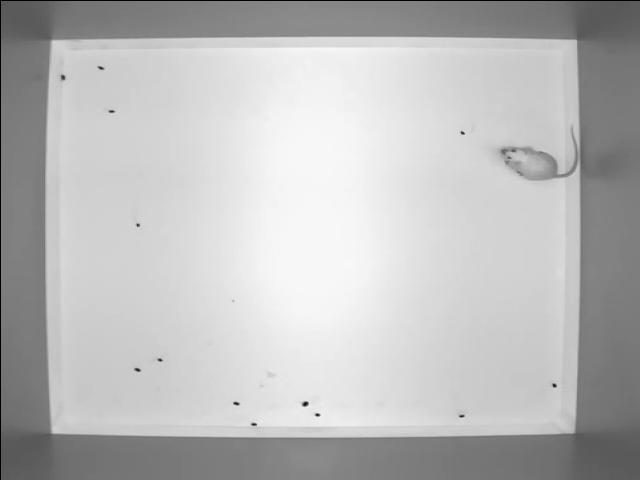Tikus: (495, 121, 581, 185)
